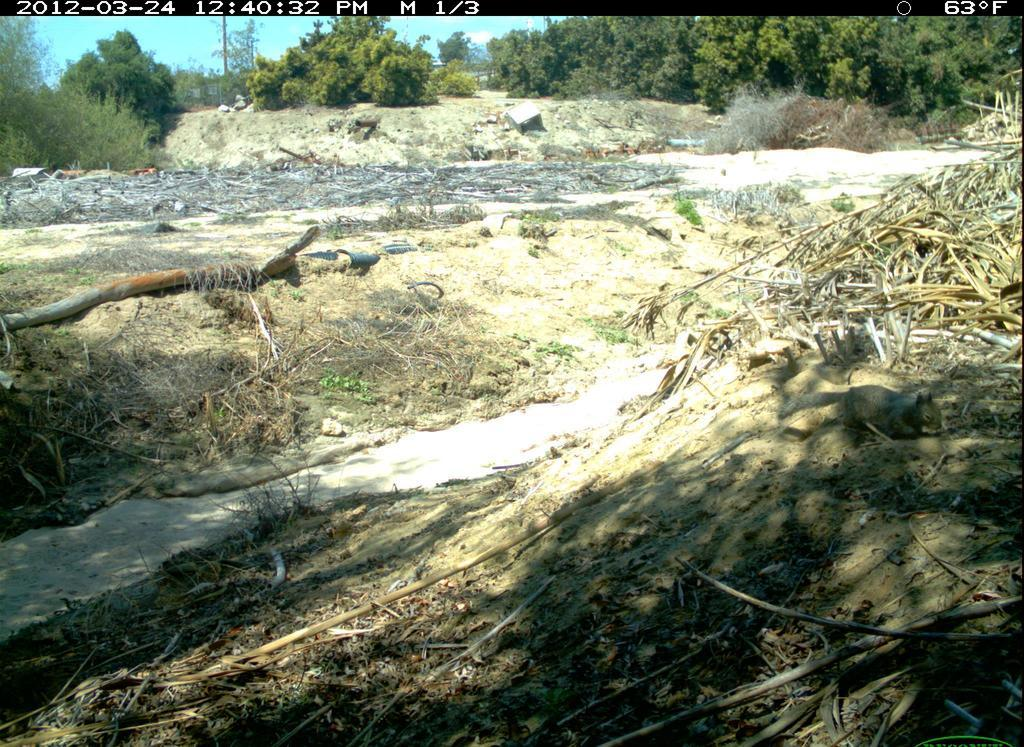squirrel: (774, 373, 953, 457)
